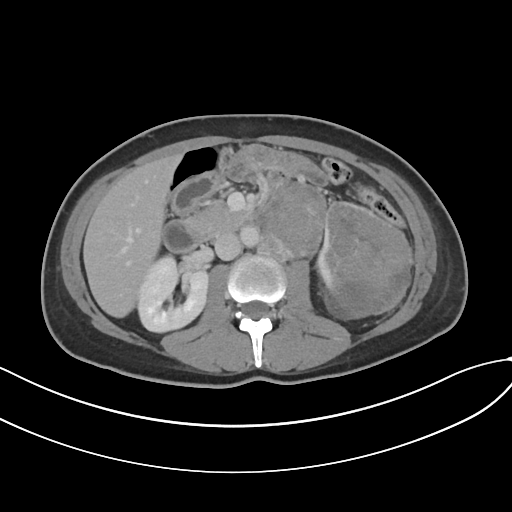Lesion: (325, 202, 412, 311)
